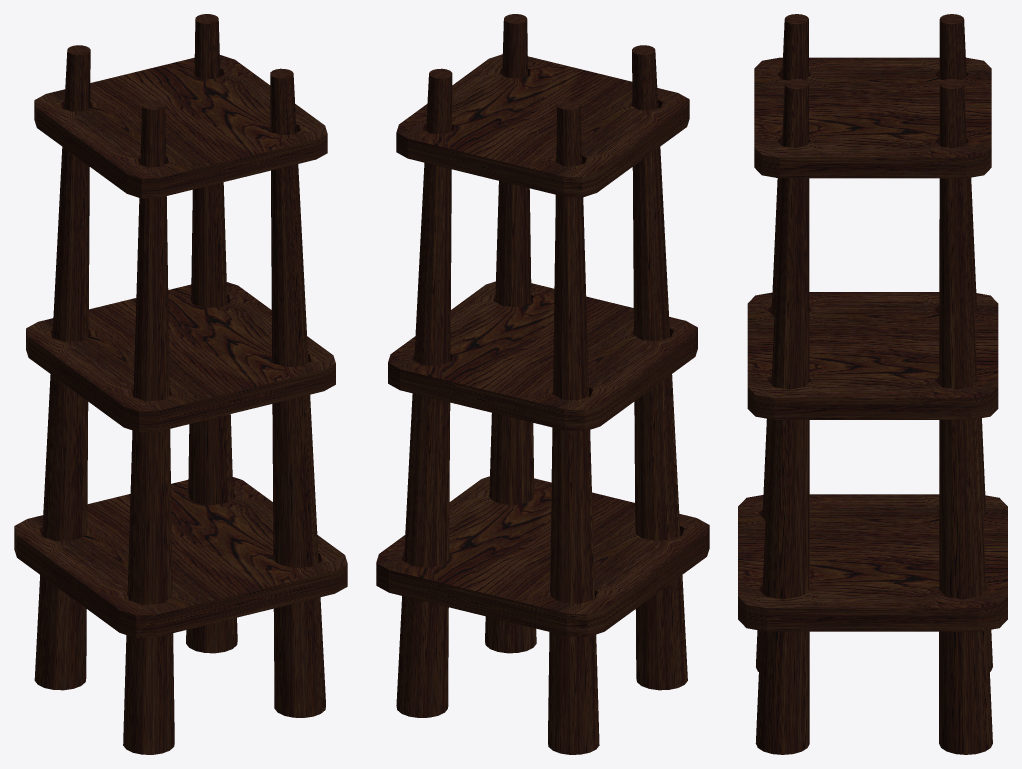
Rendered from shelf2 1.glb.
3 views of the same model, side by side, from view 1: azimuth 30°, elevation 25°; view 2: azimuth 150°, elevation 25°; view 3: azimuth 270°, elevation 25° (orthographic). The views are drawn at different scales.
Parts seen in each view (by area): view 1: SHELF.001; view 2: SHELF.001; view 3: SHELF.001.
Part boxes in pixels (x1,y1,x2,y2): SHELF.001: [14, 14, 347, 754]; SHELF.001: [376, 14, 709, 754]; SHELF.001: [738, 14, 1007, 754].
Bounding box in the file's own units: 0.9485 × 2.54 × 0.9485.
1 material, 1 textured.
